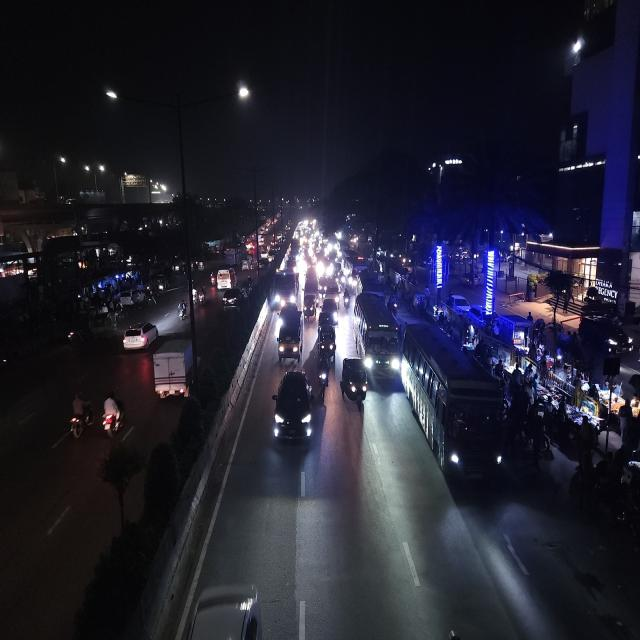bus: (404, 323, 508, 490), (352, 290, 402, 383), (342, 250, 366, 288), (212, 265, 234, 292)
car: (270, 366, 316, 454), (121, 319, 159, 354), (317, 298, 340, 349), (221, 286, 245, 313), (448, 294, 470, 316)
cng: (340, 353, 369, 414), (318, 313, 338, 359), (303, 295, 319, 320)
motorcycle: (65, 391, 94, 443), (100, 389, 124, 442), (317, 345, 330, 398), (177, 298, 189, 324), (343, 286, 351, 312), (198, 286, 205, 308)
truck: (150, 334, 198, 405), (274, 314, 304, 362), (272, 265, 299, 312)
